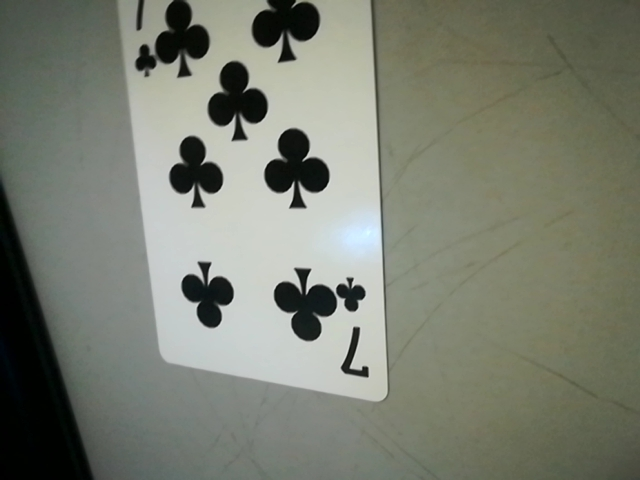mh 7: (332, 274, 384, 390)
